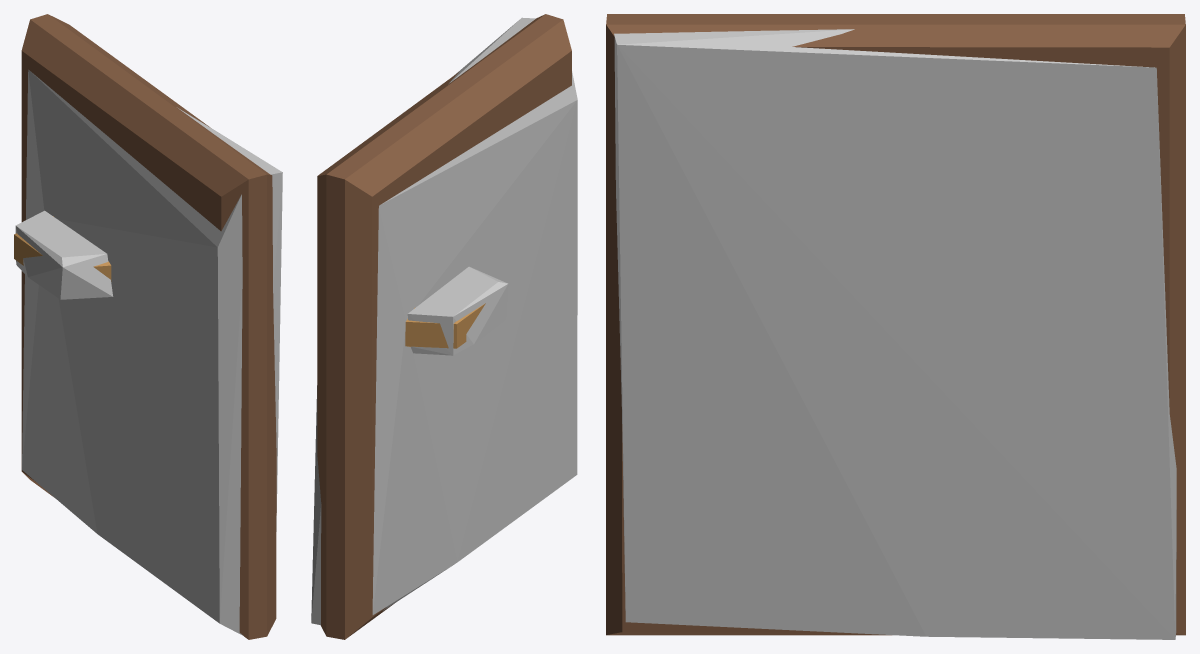
Rendered from SM_Prop_Cabinet_01_Drawer_r_03.fbx.
3 views of the same model, side by side, from view 1: azimuth 30°, elevation 25°; view 2: azimuth 150°, elevation 25°; view 3: azimuth 270°, elevation 25° (orthographic). The views are drawn at different scales.
Parts seen in each view (by area): view 1: SM_Prop_Cabinet_01_Drawer_r_03_ConvexHulls, SM_Prop_Cabinet_01_Drawer_r_03; view 2: SM_Prop_Cabinet_01_Drawer_r_03_ConvexHulls, SM_Prop_Cabinet_01_Drawer_r_03; view 3: SM_Prop_Cabinet_01_Drawer_r_03_ConvexHulls, SM_Prop_Cabinet_01_Drawer_r_03.
Boxes of the visible parts, x1=… form: SM_Prop_Cabinet_01_Drawer_r_03_ConvexHulls: x1=15, y1=69, x2=282, y2=635; SM_Prop_Cabinet_01_Drawer_r_03: x1=14, y1=14, x2=276, y2=639; SM_Prop_Cabinet_01_Drawer_r_03_ConvexHulls: x1=311, y1=17, x2=577, y2=625; SM_Prop_Cabinet_01_Drawer_r_03: x1=317, y1=14, x2=571, y2=639; SM_Prop_Cabinet_01_Drawer_r_03_ConvexHulls: x1=614, y1=29, x2=1176, y2=639; SM_Prop_Cabinet_01_Drawer_r_03: x1=606, y1=14, x2=1185, y2=635.
Size of the model in its own units: 9.22 by 33.74 by 39.21.
Materials: 2 (1 with a texture image).
